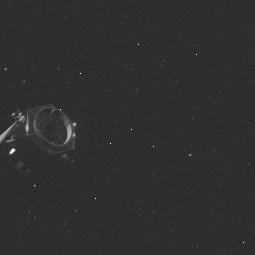earth_observation_sat_1: (0, 93, 83, 192)
